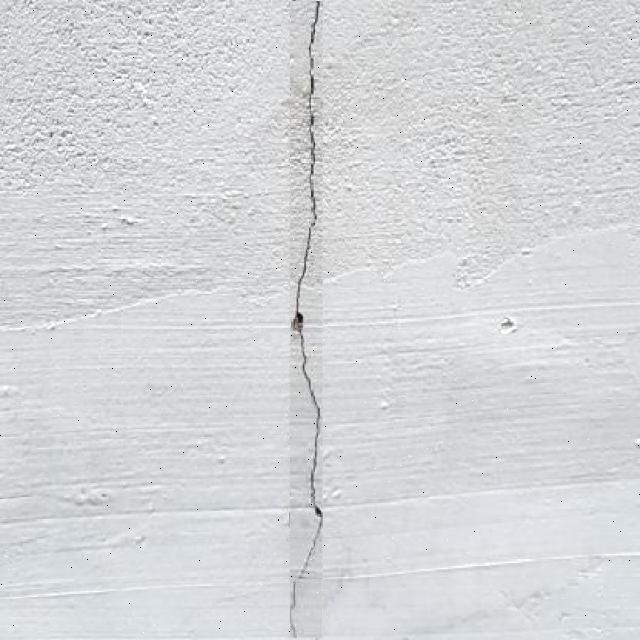crack: (1, 487, 630, 633), (11, 485, 630, 531), (287, 0, 325, 639), (4, 310, 629, 348), (384, 21, 422, 638), (0, 270, 327, 338), (418, 217, 636, 317), (2, 241, 211, 288), (1, 569, 263, 605), (0, 496, 196, 532), (378, 237, 492, 292), (301, 18, 319, 277), (288, 2, 322, 126)
